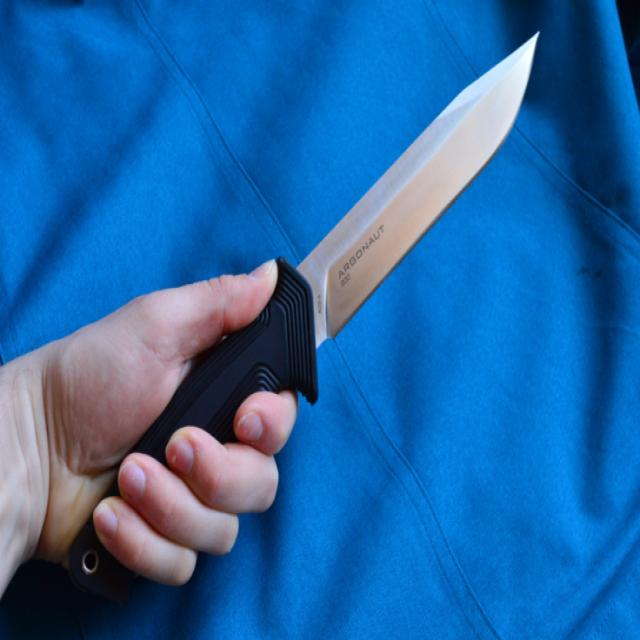knife: (162, 25, 547, 429)
